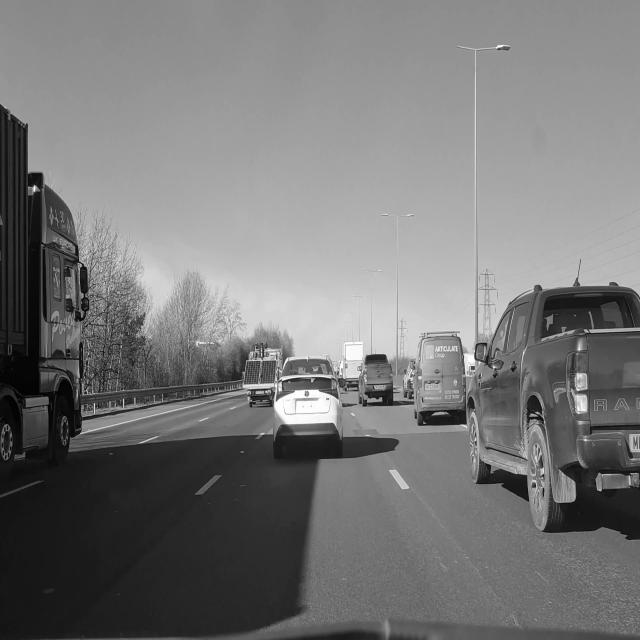car: (463, 262, 640, 547), (273, 357, 343, 458), (414, 331, 465, 425), (403, 359, 415, 399)
